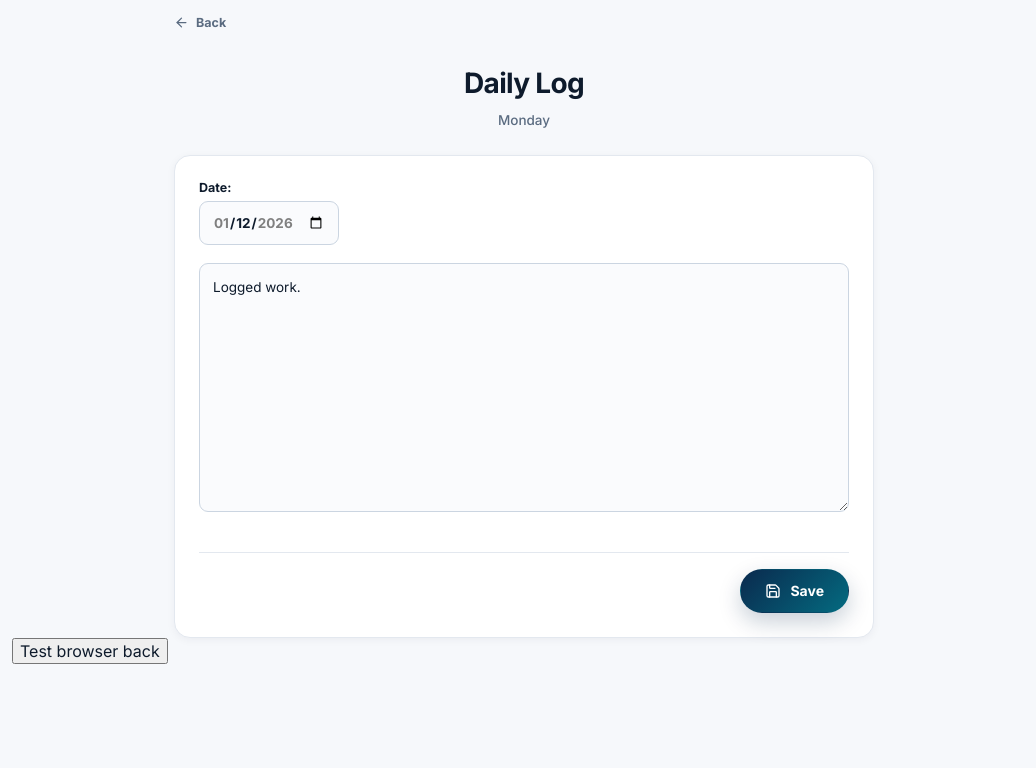
Test: DayPage › preserves the weekend message when a typed weekend date commits on Enter (req: specific errors)
The width and height of the screenshot is (1036, 768).
Expected: the text box named "Daily log for 2026-01-12" is shown, x1=199 y1=263 x2=849 y2=512
Note: 2026-01-11 is a Sunday: complete but disallowed — silent until commit.
Press 1 in the date field labelled "Date", box x1=199 y1=201 x2=338 y2=245
Type "2026-01-11" into the date field labelled "Date" at (269, 223), box x1=199 y1=201 x2=338 y2=245
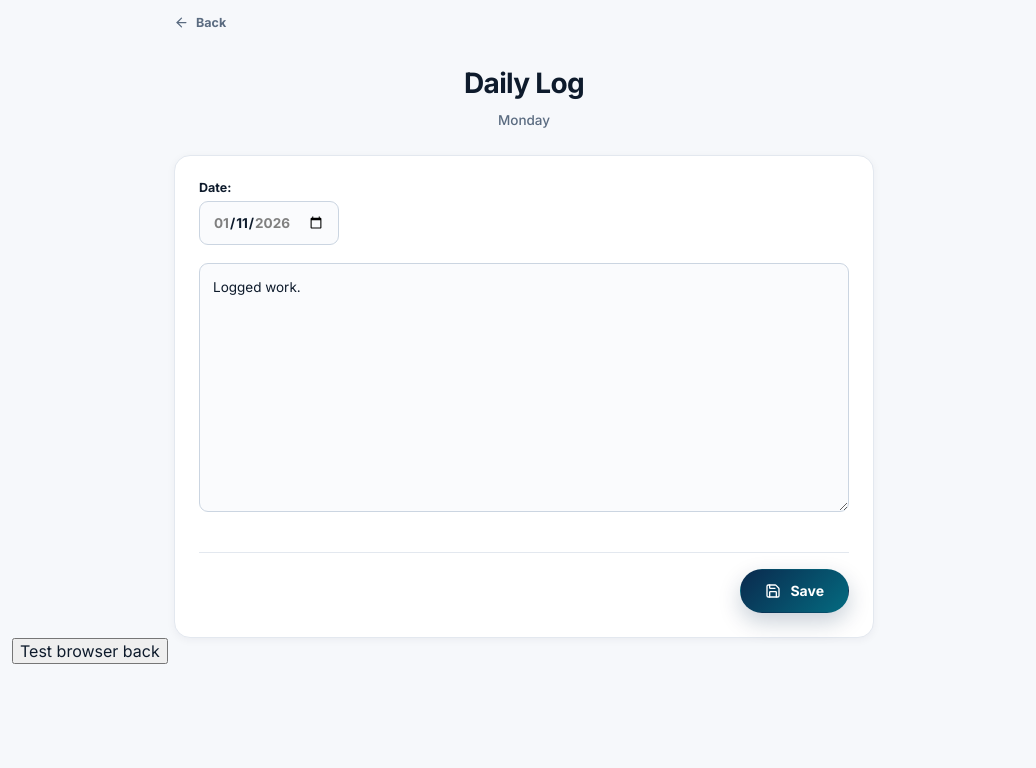
Press Enter in the date field labelled "Date", box x1=199 y1=201 x2=338 y2=245
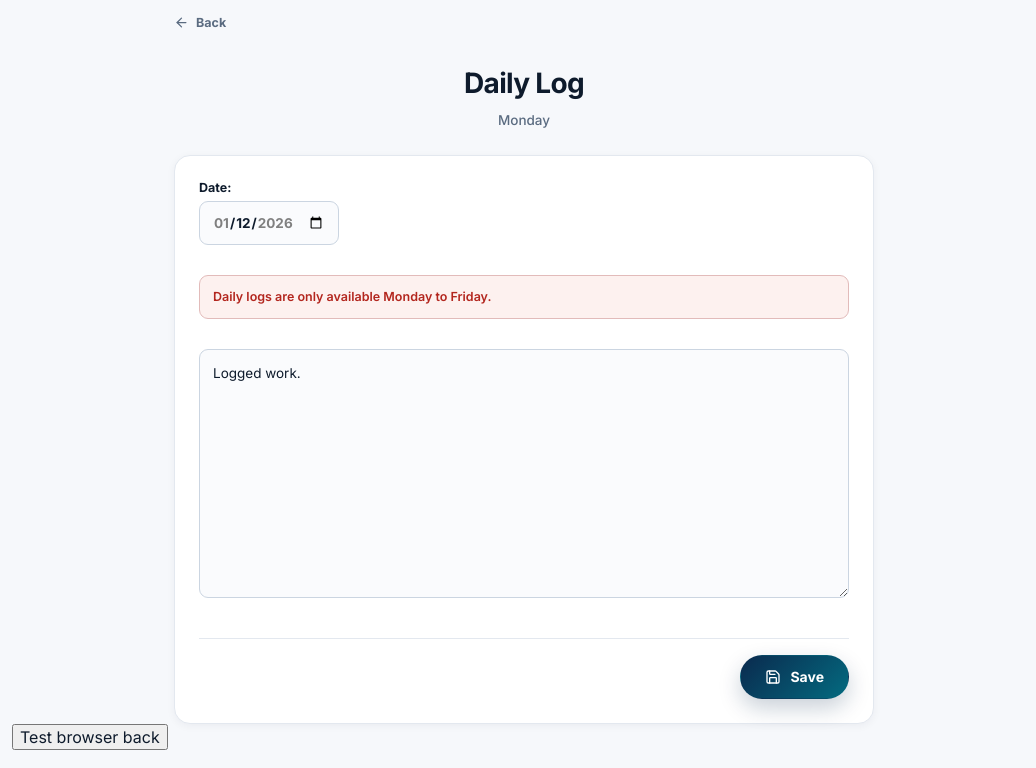
Expected: the message reads "Daily logs are only available Monday to Friday.", x1=213 y1=289 x2=492 y2=304
Expected: the date field labelled "Date" holds "2026-01-12", x1=199 y1=201 x2=338 y2=245
